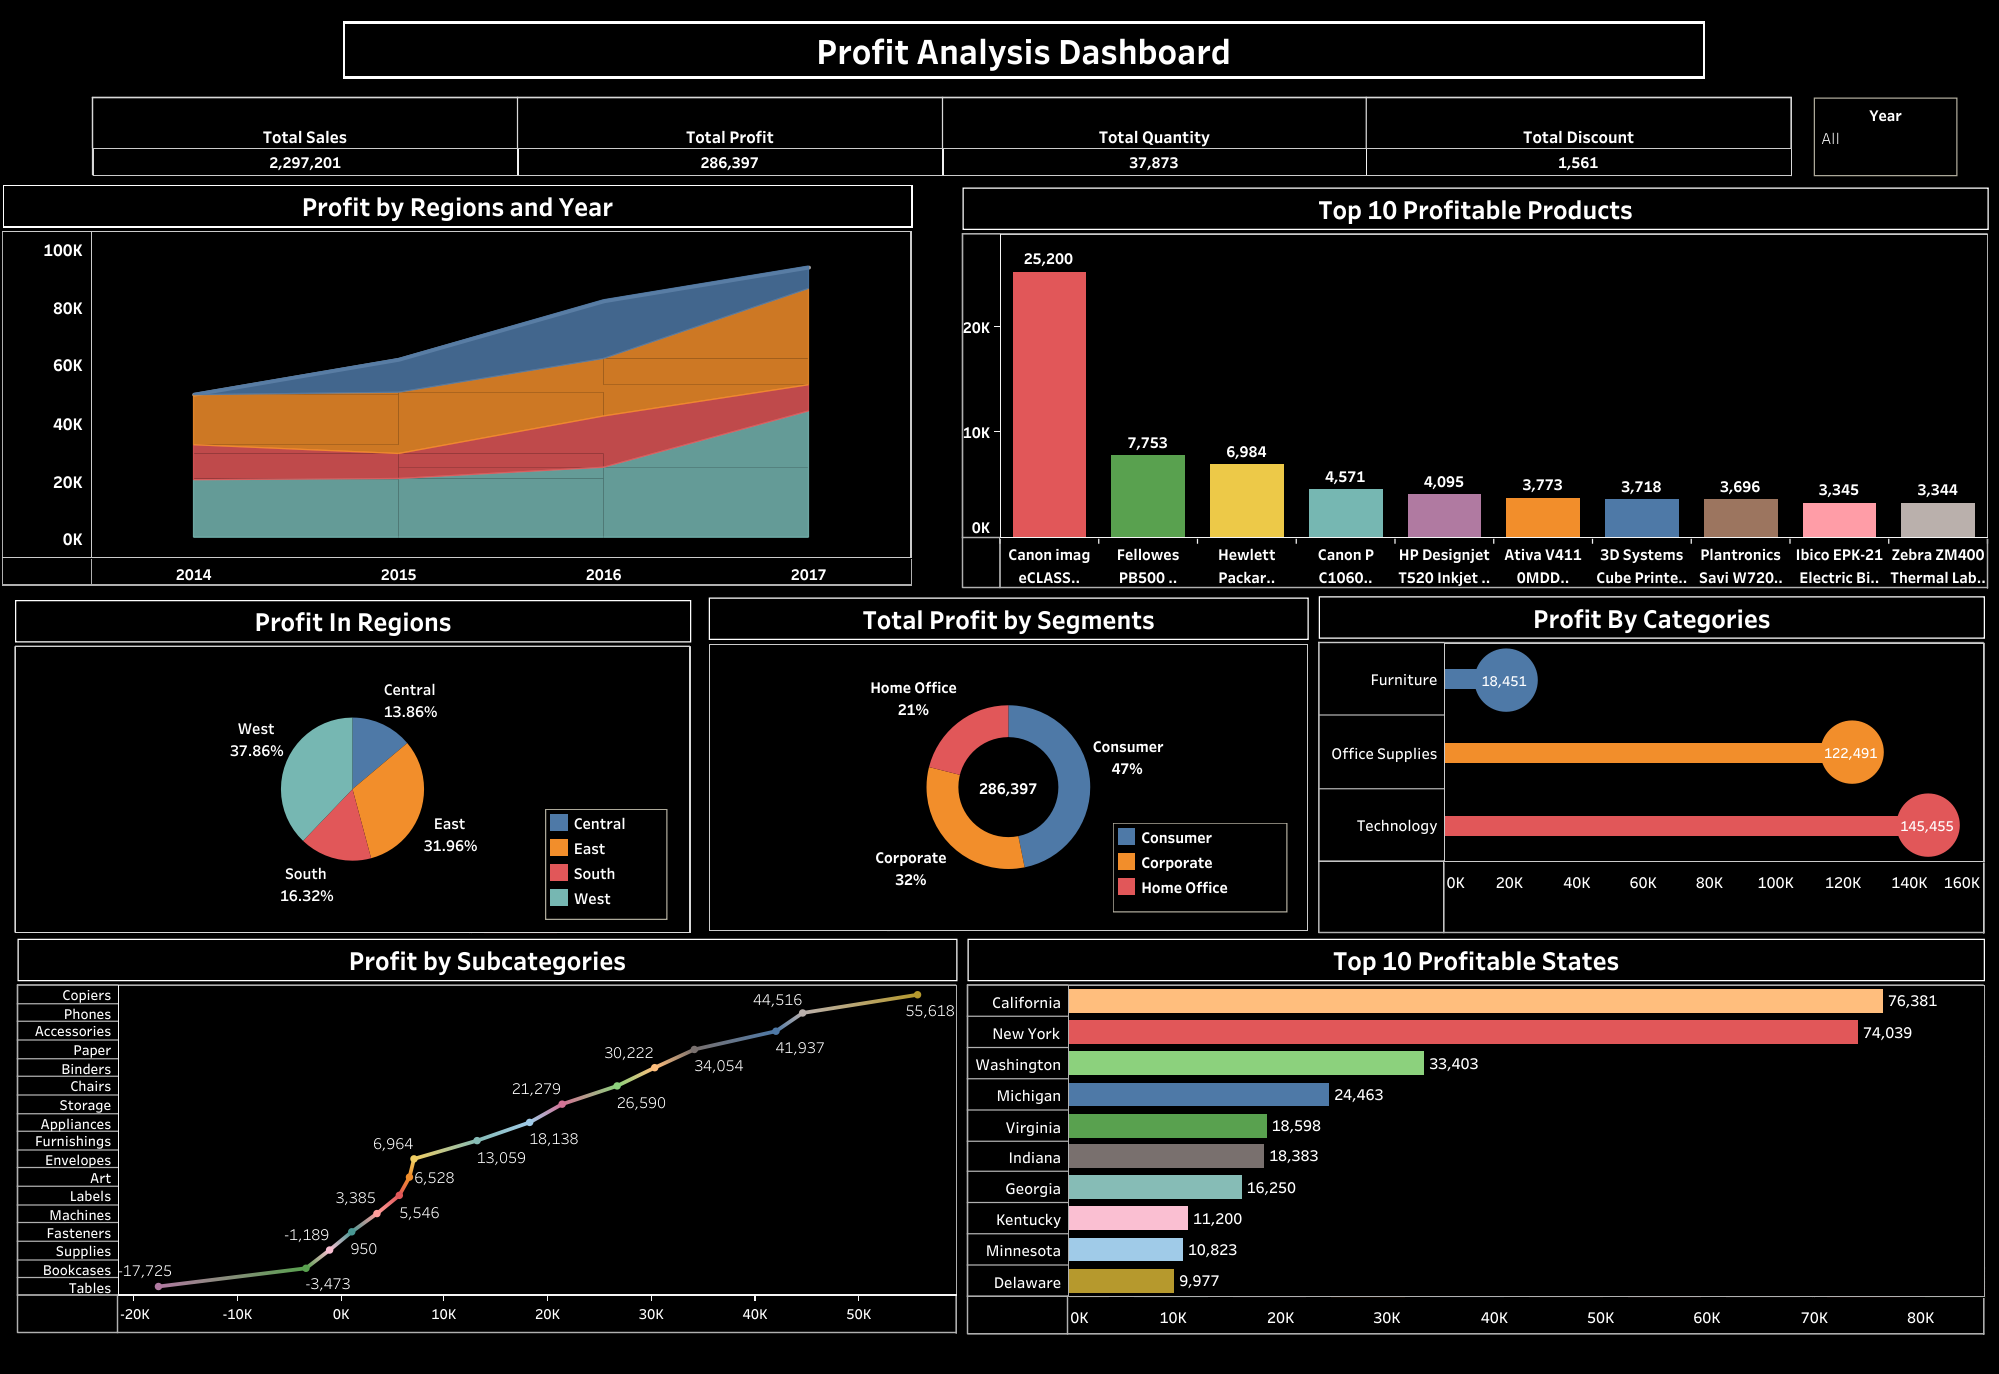

The dashboard page shown, as its layout file describes it:
{"tool":"tableau","page":{"name":"Profit Analysis Dashboard","canvas":[1600,1100],"ordinal":0},"visuals":[{"type":"worksheet","title":"Title","mark":"Automatic","box":[274,17,1090,55]},{"type":"worksheet","title":"KPI","mark":"Automatic","box":[74,78,1360,63]},{"type":"filter","title":"Profit by Regions and Year","param":"[federated.1weekia02uig6z1bci55p13cyptw].[yr:Order Date:ok]","box":[1451,78,115,63]},{"type":"worksheet","title":"Profit by Regions and Year","mark":"Automatic","rows":["Profit","Profit"],"cols":["Order Date"],"box":[2,148,728,321]},{"type":"worksheet","title":"Top 10 Profitable Products","mark":"Automatic","rows":["Profit"],"cols":["Product Name"],"box":[770,150,821,321]},{"type":"worksheet","title":"Profit By Categories","mark":"Automatic","rows":["Category"],"cols":["Profit","Profit"],"box":[1055,477,533,270]},{"type":"worksheet","title":"Total Profit by Segments","mark":"Pie","rows":["Calculation_358599172296724485","Calculation_358599172296724485"],"box":[567,478,480,267]},{"type":"worksheet","title":"Profit In Regions","mark":"Pie","box":[12,480,541,267]},{"type":"legend","title":"Profit In Regions","param":"[federated.1weekia02uig6z1bci55p13cyptw].[none:Region:nk]","box":[436,647,98,89]},{"type":"legend","title":"Total Profit by Segments","param":"[federated.1weekia02uig6z1bci55p13cyptw].[none:Segment:nk]","box":[890,658,140,72]},{"type":"worksheet","title":"Profit By Sub-Categories","mark":"Line","rows":["Sub-Category"],"cols":["Profit"],"box":[14,751,752,317]},{"type":"worksheet","title":"Top 10 Profitable States","mark":"Automatic","rows":["State"],"cols":["Profit"],"box":[774,751,814,317]}]}

Visuals, with their boxes in screenshot pixels (x1, y1, x2, y2), scaled from the page's 1600x1100 canvas onto the 1999x1374 screenshot:
"Title" worksheet: 342/21/1704/90
"KPI" worksheet: 92/97/1792/176
"Profit by Regions and Year" filter: 1813/97/1957/176
"Profit by Regions and Year" worksheet: 2/185/912/586
"Top 10 Profitable Products" worksheet: 962/187/1988/588
"Profit By Categories" worksheet: 1318/596/1984/933
"Total Profit by Segments" worksheet (Pie marks): 708/597/1308/931
"Profit In Regions" worksheet (Pie marks): 15/600/691/933
"Profit In Regions" legend: 545/808/667/919
"Total Profit by Segments" legend: 1112/822/1287/912
"Profit By Sub-Categories" worksheet (Line marks): 17/938/957/1334
"Top 10 Profitable States" worksheet: 967/938/1984/1334
